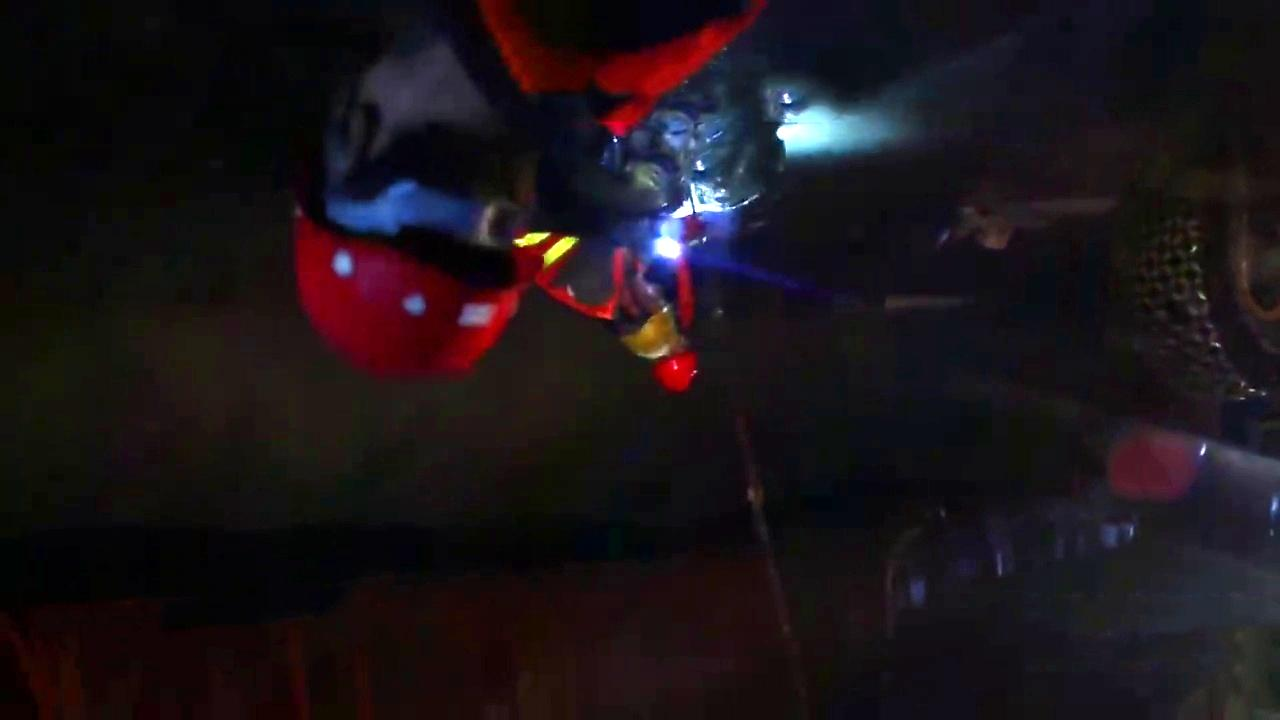helmet: (293, 46, 532, 387), (613, 271, 679, 360), (649, 333, 700, 395)
